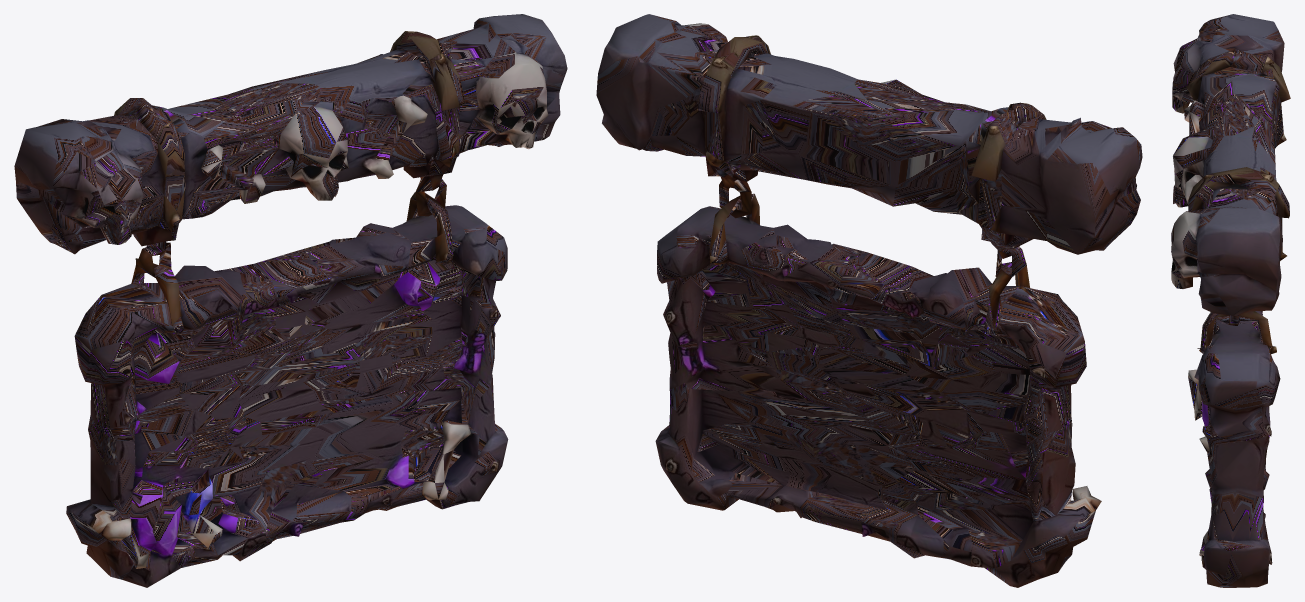
The model's file is stylized_dungeon_sign_02.glb.
The picture shows the model from 3 angles, left to right: view 1: azimuth 30°, elevation 25°; view 2: azimuth 150°, elevation 25°; view 3: azimuth 270°, elevation 25°; orthographic projection. The views are drawn at different scales.
Visible parts, largest first — view 1: tripo_node_f9974e63-aba6-4712-b8eb-1fcddd33380a; view 2: tripo_node_f9974e63-aba6-4712-b8eb-1fcddd33380a; view 3: tripo_node_f9974e63-aba6-4712-b8eb-1fcddd33380a.
Part boxes in pixels (box(x1,y1,x2,y2)): tripo_node_f9974e63-aba6-4712-b8eb-1fcddd33380a: box(14, 14, 567, 587); tripo_node_f9974e63-aba6-4712-b8eb-1fcddd33380a: box(596, 14, 1142, 587); tripo_node_f9974e63-aba6-4712-b8eb-1fcddd33380a: box(1171, 14, 1290, 587).
Size of the model in its own units: 0.981 by 0.8538 by 0.2261.
1 material, 1 textured.
